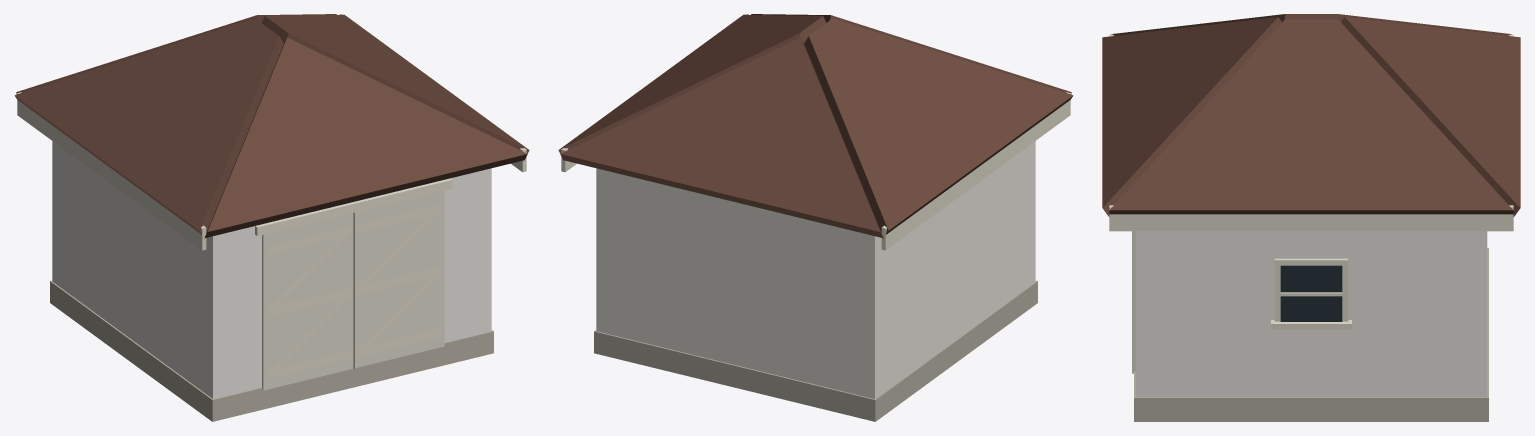
The model's file is garage-0001.glb.
3 views of the same model, side by side, from view 1: azimuth 30°, elevation 25°; view 2: azimuth 150°, elevation 25°; view 3: azimuth 270°, elevation 25° (orthographic). The views are drawn at different scales.
Visible parts, largest first — view 1: kit-garage-0001; view 2: kit-garage-0001; view 3: kit-garage-0001.
Boxes of the visible parts, left/top/right/bottom form: kit-garage-0001: left=14, top=14, right=529, bottom=421; kit-garage-0001: left=558, top=14, right=1073, bottom=421; kit-garage-0001: left=1102, top=14, right=1520, bottom=421.
Bounding box in the file's own units: 4.74 × 4.15 × 4.75.
